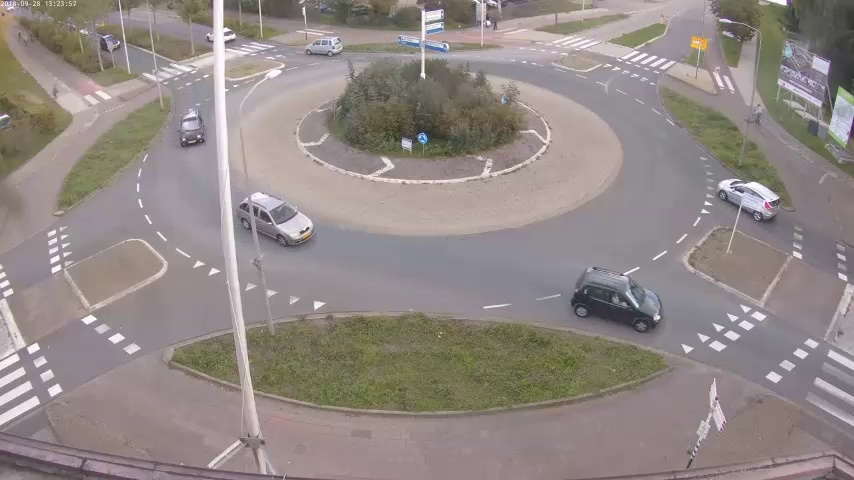bicycle: (749, 102, 765, 125)
car: (570, 261, 668, 327), (240, 192, 311, 247), (718, 174, 774, 225), (300, 34, 349, 58), (176, 110, 204, 143), (98, 29, 124, 58), (206, 25, 237, 44)
